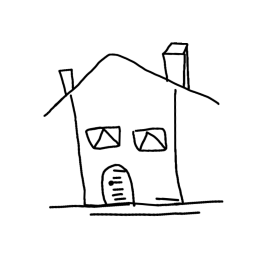chimney: (148, 28, 200, 86), (54, 61, 83, 98)
door: (88, 160, 141, 213)
open_window: (129, 122, 175, 160), (83, 119, 123, 152)
single_line_roof: (34, 48, 239, 121)
wall: (63, 88, 197, 219)
